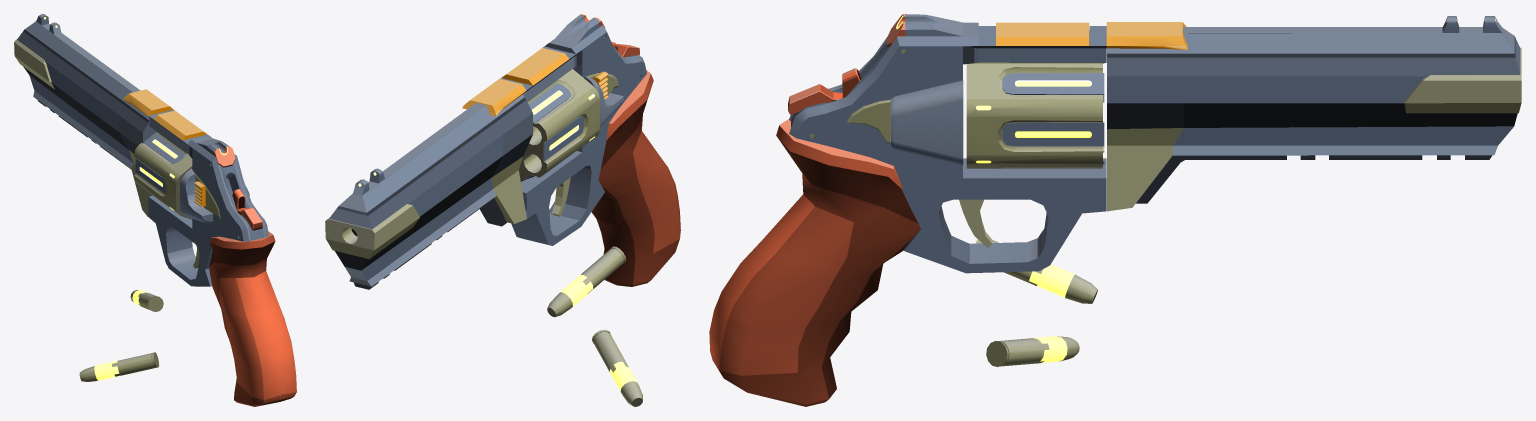
The model's file is revolver-transformed.glb.
The picture shows the model from 3 angles, left to right: view 1: azimuth 30°, elevation 25°; view 2: azimuth 150°, elevation 25°; view 3: azimuth 270°, elevation 25°; orthographic projection. The views are drawn at different scales.
Parts seen in each view (by area): view 1: handle, polySurface21, polySurface14, drum_base, pCylinder4, trapeze_left1, pCube44, bar_06, bar_01, lower_detail, upper_detail_02, fang_left (+3 smaller); view 2: polySurface21, polySurface14, handle, drum_base, pCube44, pCylinder1, pCylinder4, bar_06, bar_01, upper_detail_01, trapeze_left1, polySurface2 (+1 smaller); view 3: polySurface21, handle, polySurface14, drum_base, trapeze_right, pCube44, bar_02, bar_05, pCylinder4, pCylinder1, upper_detail_01, polySurface2 (+3 smaller).
Boxes of the visible parts, <box> form: handle: <box>209,231,296,406</box>; polySurface21: <box>17,21,156,216</box>; polySurface14: <box>123,89,268,286</box>; drum_base: <box>134,132,192,219</box>; pCylinder4: <box>79,353,155,381</box>; trapeze_left1: <box>180,168,212,223</box>; pCube44: <box>14,39,71,89</box>; bar_06: <box>143,132,184,163</box>; bar_01: <box>135,158,166,193</box>; lower_detail: <box>237,207,262,230</box>; upper_detail_02: <box>213,146,235,167</box>; fang_left: <box>193,171,220,222</box>; polySurface21: <box>329,94,533,286</box>; polySurface14: <box>462,25,646,245</box>; handle: <box>591,70,680,286</box>; drum_base: <box>519,69,599,182</box>; pCube44: <box>325,204,419,259</box>; pCylinder1: <box>547,248,623,317</box>; pCylinder4: <box>593,332,642,406</box>; bar_06: <box>528,83,571,123</box>; bar_01: <box>543,116,583,161</box>; upper_detail_01: <box>556,14,599,43</box>; trapeze_left1: <box>583,75,624,126</box>; polySurface2: <box>447,198,506,232</box>; polySurface21: <box>1107,27,1520,211</box>; handle: <box>709,119,920,406</box>; polySurface14: <box>789,22,1187,273</box>; drum_base: <box>966,62,1102,168</box>; trapeze_right: <box>891,80,963,164</box>; pCube44: <box>1404,47,1521,113</box>; bar_02: <box>1002,122,1104,146</box>; bar_05: <box>1002,73,1104,94</box>; pCylinder4: <box>998,336,1079,366</box>; pCylinder1: <box>980,240,1097,303</box>; upper_detail_01: <box>905,14,962,36</box>; polySurface2: <box>1136,155,1286,203</box>.
Bounding box in the file's own units: 0.4353 × 0.8421 × 1.51.
